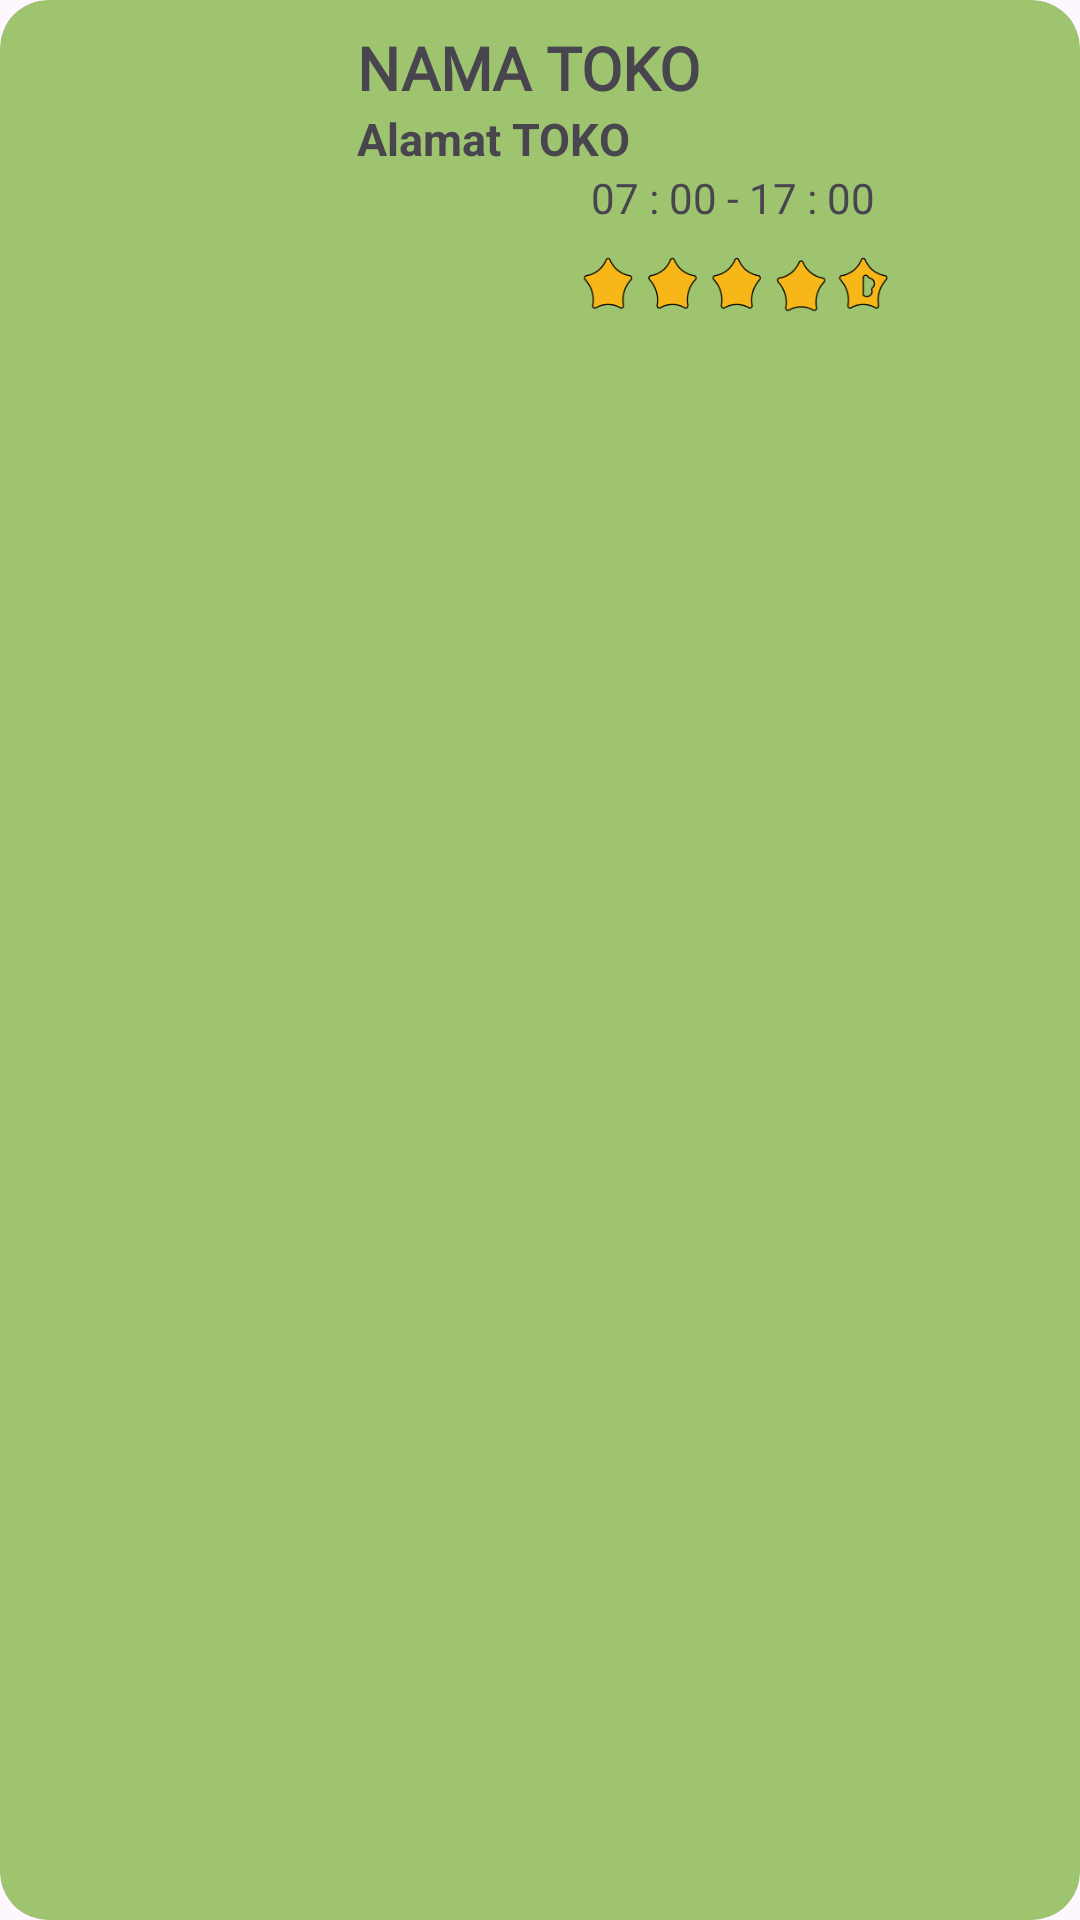

Screen size 1080x1920. Icon name, then its box in pixels as [x1=x1, y1=y1, x2=x2, y2=y2]:
bintang: [x1=583, y1=257, x2=888, y2=312]
